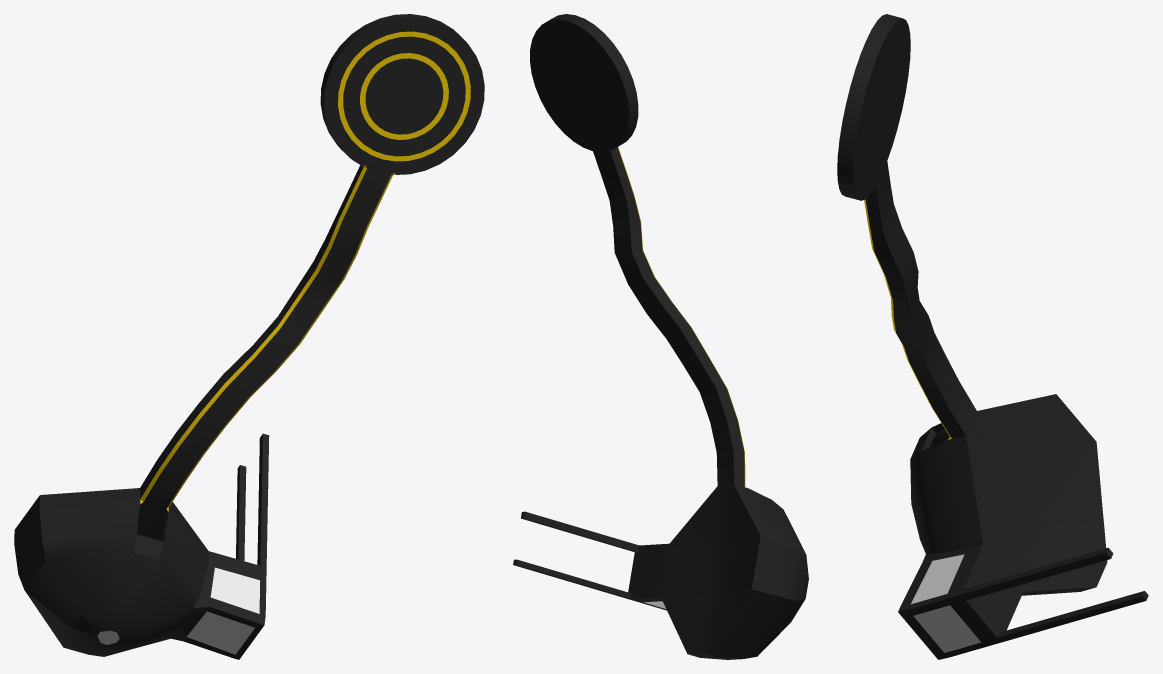
The model's file is LandingPlatform.fbx.
3 renders of one model, left to right at view 1: azimuth 30°, elevation 25°; view 2: azimuth 150°, elevation 25°; view 3: azimuth 270°, elevation 25°, orthographic. The views are drawn at different scales.
Parts seen in each view (by area): view 1: LandingPlatform; view 2: LandingPlatform; view 3: LandingPlatform.
Boxes of the visible parts, left/top/right/bottom form: LandingPlatform: left=14, top=14, right=484, bottom=659; LandingPlatform: left=513, top=14, right=808, bottom=659; LandingPlatform: left=837, top=14, right=1148, bottom=659.
Size of the model in its own units: 53.21 by 83.62 by 33.13.
